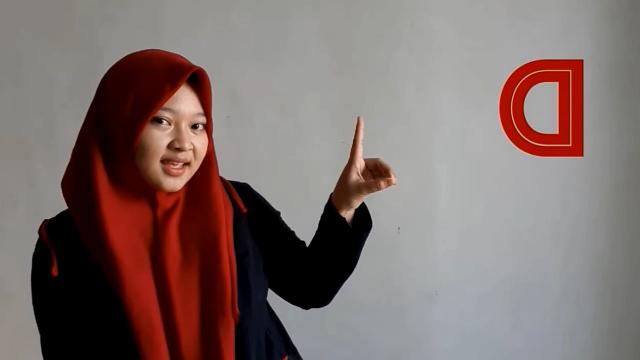D: (336, 114, 399, 210)
